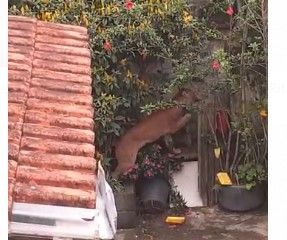OncaParda: (103, 84, 203, 179)
